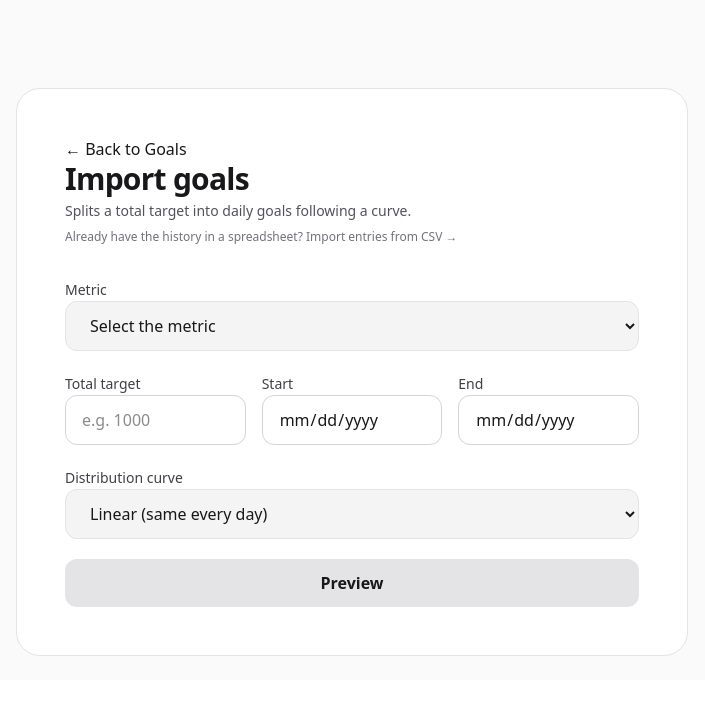
Test: ImportGoals › confirma a importação e mostra o resultado
Select "Receita (daily)" in the dropdown named "metric_id" below "Metric": (352, 326) [65,301,639,351]
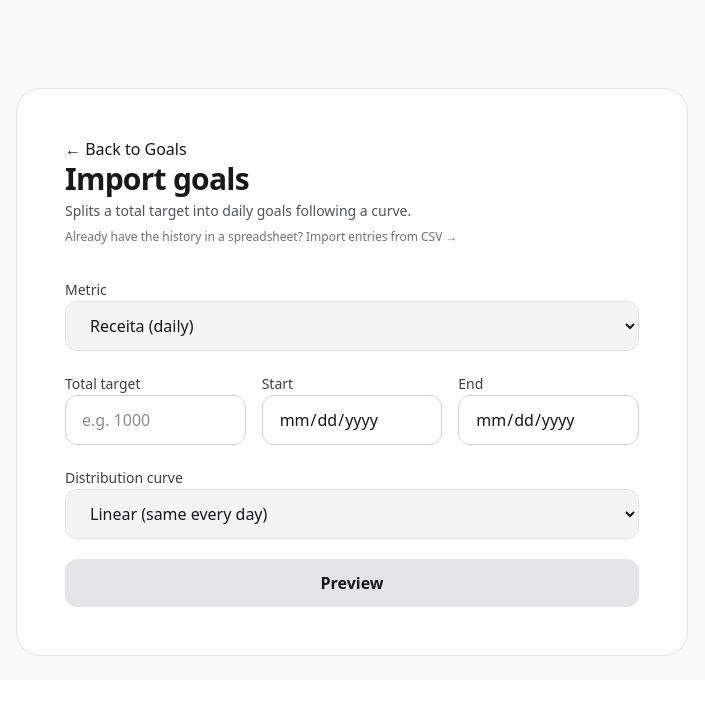
In the number field named "alvo_total": (155, 420) [65,395,246,445], type "100"
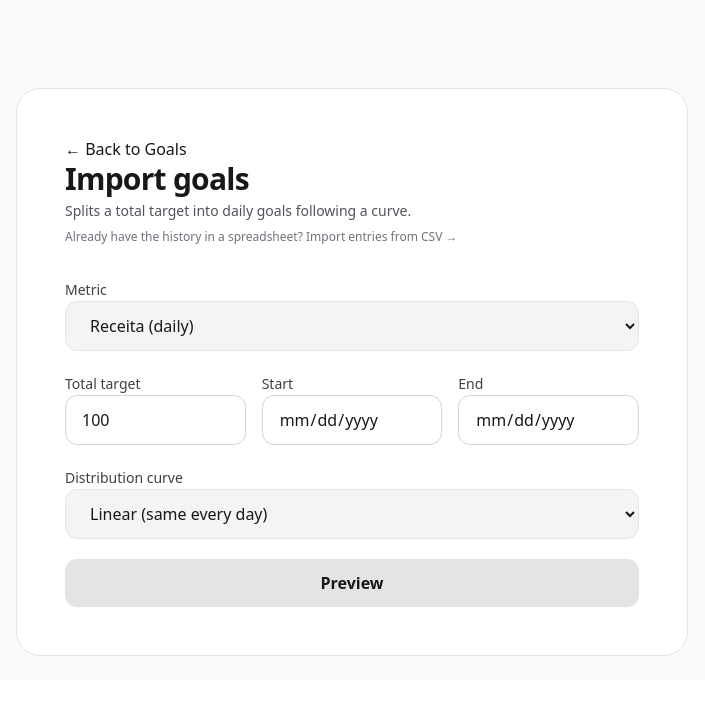
In the date field named "inicio" below "Start": (352, 420) [262,395,442,445], type "2026-08-03"
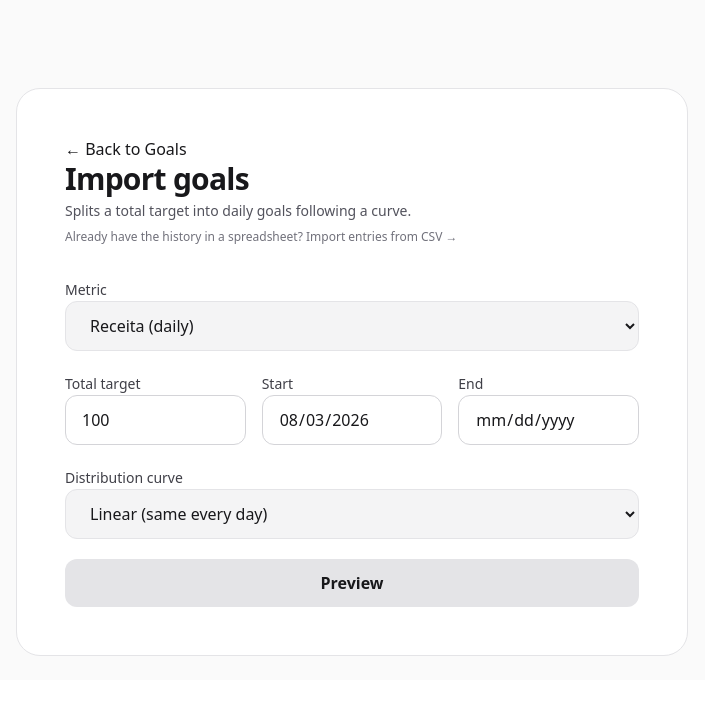
In the date field named "fim" below "End": (549, 420) [458,395,639,445], type "2026-08-06"
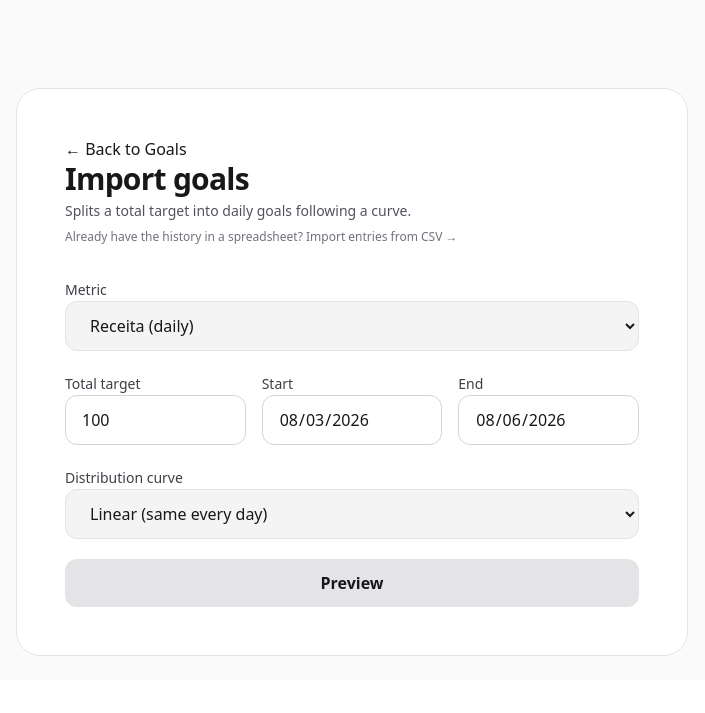
Click the button "Preview": (352, 583) [65,559,639,607]
(page scrolled)
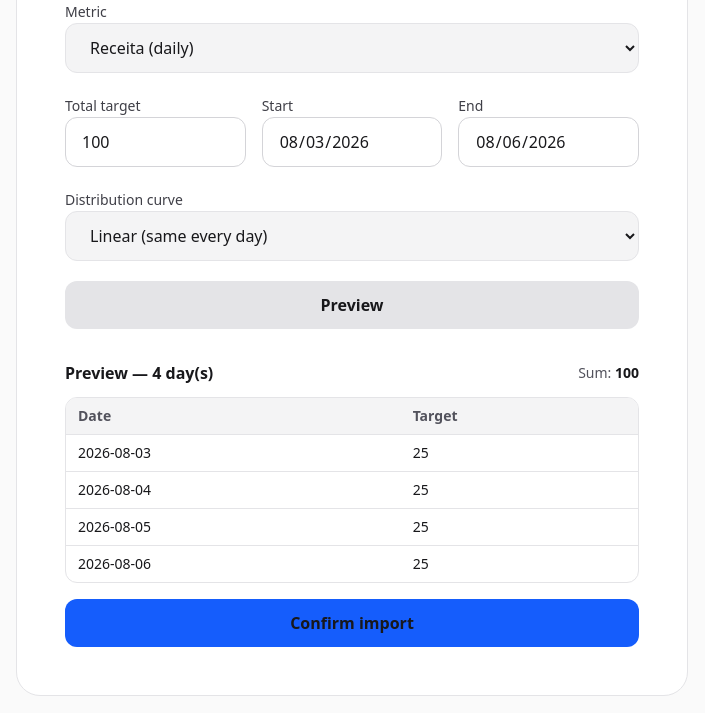
Click the button "Confirm import": (352, 623) [65,599,639,647]
(page scrolled)
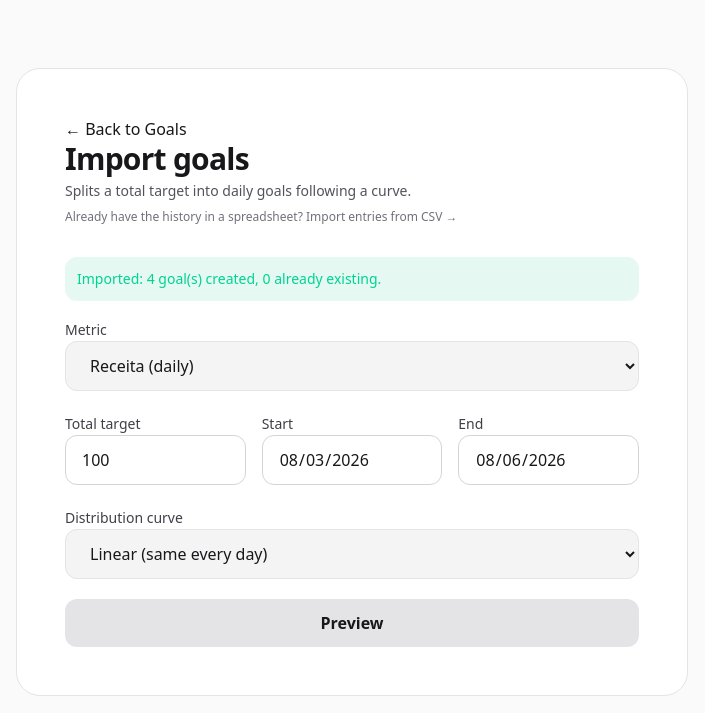
Result: the text "Imported: 4 goal(s) created, 0 already existing." is shown at [65,257,639,301]
